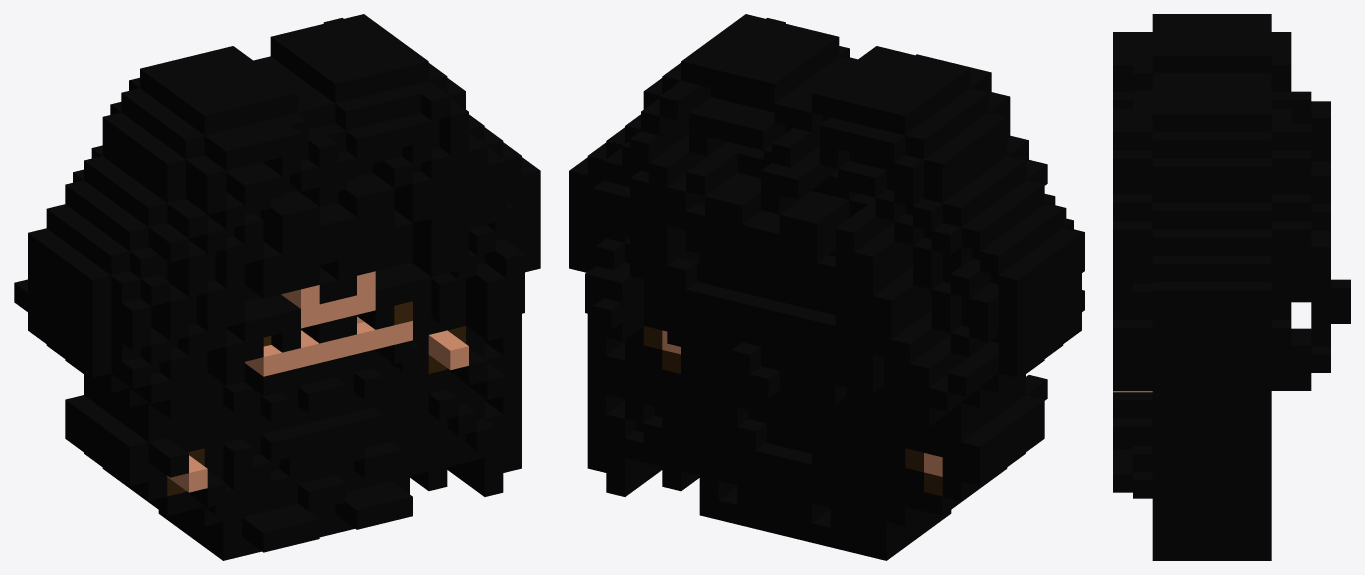
Rendered from Icon_006_02.obj.
3 renders of one model, left to right at view 1: azimuth 30°, elevation 25°; view 2: azimuth 150°, elevation 25°; view 3: azimuth 270°, elevation 25°, orthographic. The views are drawn at different scales.
Parts seen in each view (by area): view 1: Icon-006-02; view 2: Icon-006-02; view 3: Icon-006-02.
Part boxes in pixels (x1,y1,x2,y2): Icon-006-02: (14, 14, 540, 560); Icon-006-02: (569, 14, 1084, 560); Icon-006-02: (1113, 14, 1350, 560).
Size of the model in its own units: 2.4 by 2.3 by 1.2.
